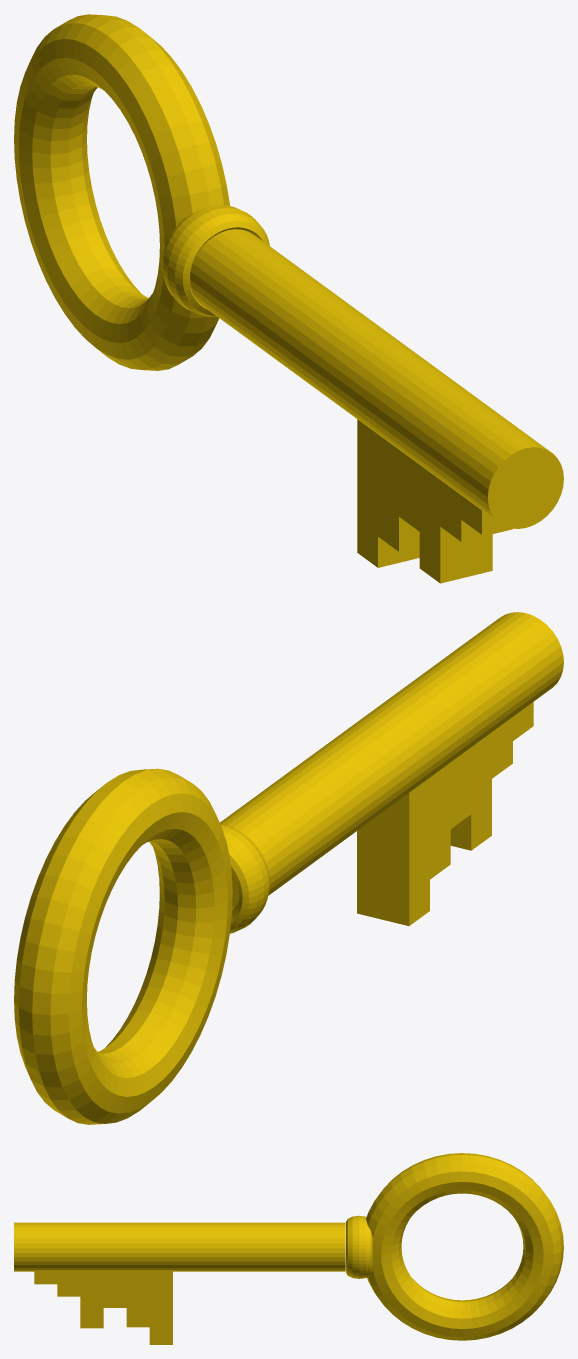
File: New Unity Project (2).fbx
3 renders of one model, top to bottom at view 1: azimuth 30°, elevation 25°; view 2: azimuth 150°, elevation 25°; view 3: azimuth 270°, elevation 25°, orthographic. The views are drawn at different scales.
Visible parts, largest first — view 1: Cube; view 2: Cube; view 3: Cube.
Boxes of the visible parts, box(x1,y1,x2,y2) form: Cube: box(14, 14, 563, 583); Cube: box(14, 612, 563, 1124); Cube: box(14, 1153, 563, 1344).
Size of the model in its own units: 61.96 by 199 by 539.
